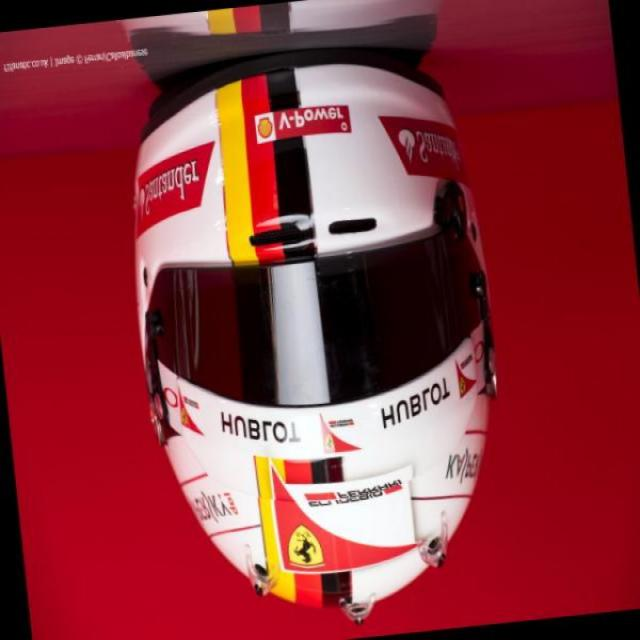Helmet: (85, 84, 518, 582)
